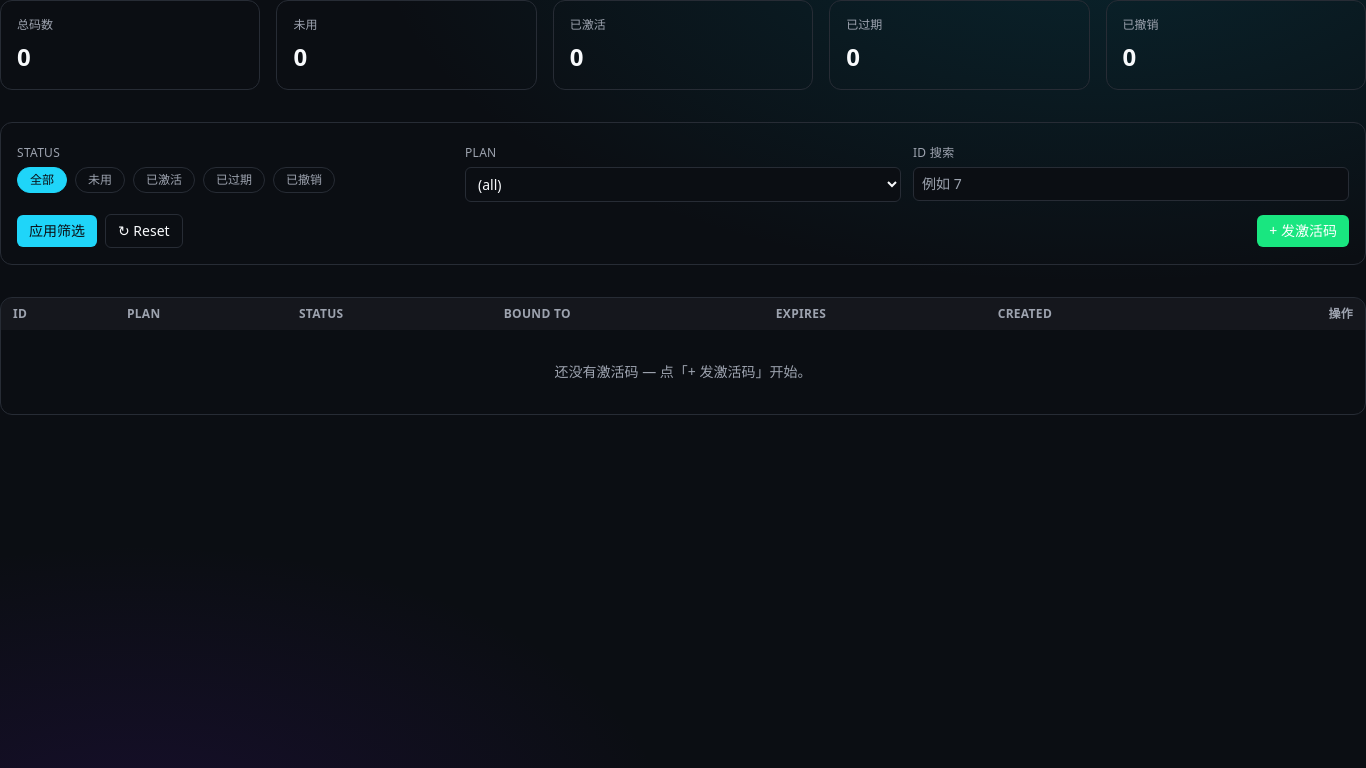
Scenario: ActivationCodesPanel — Phase 23 IM delivery › when the server returns im_send.sent=false the toast surfaces the failure
Step 1. Click the button with test id "btn-issue" → (1303, 231), box [1257,215,1349,247]
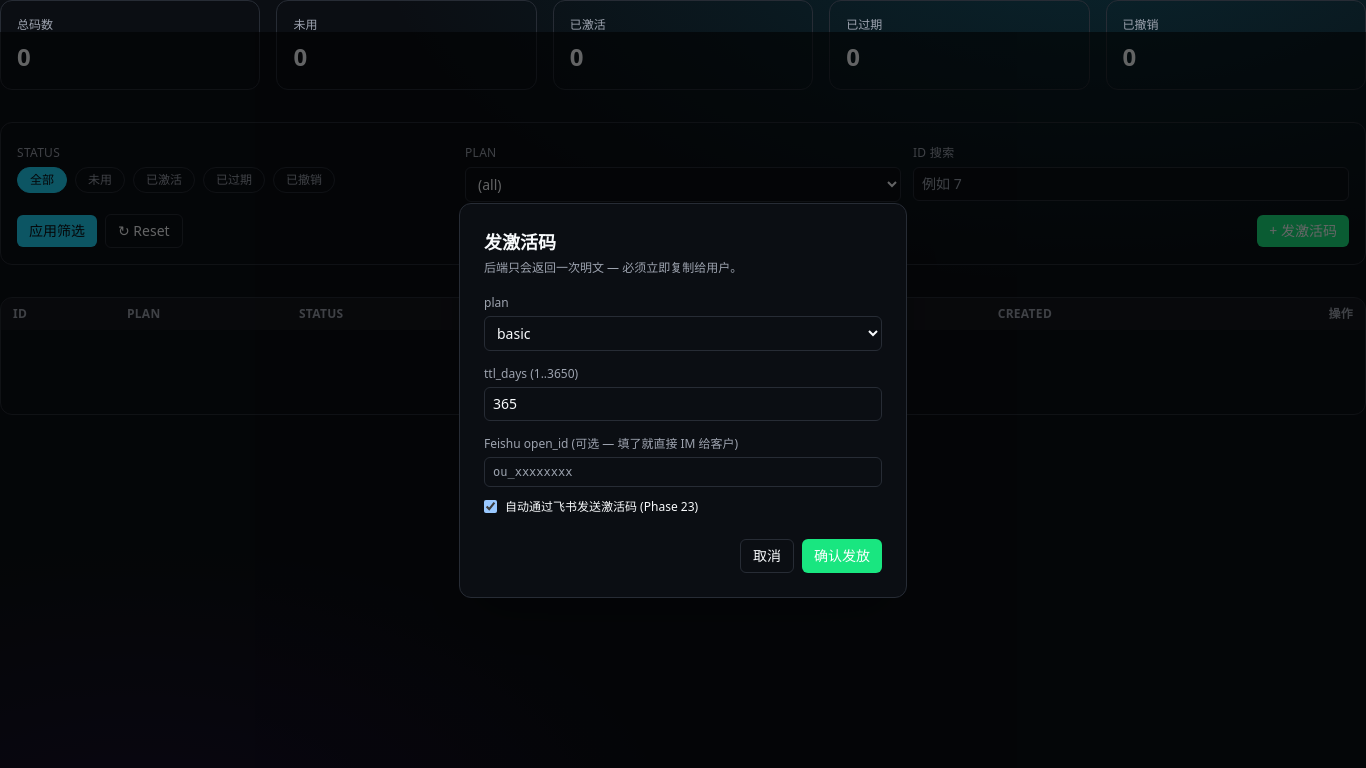
Step 2. Type "ou_x" into the field with test id "issue-feishu-open-id" → (683, 472), box [484,456,882,486]
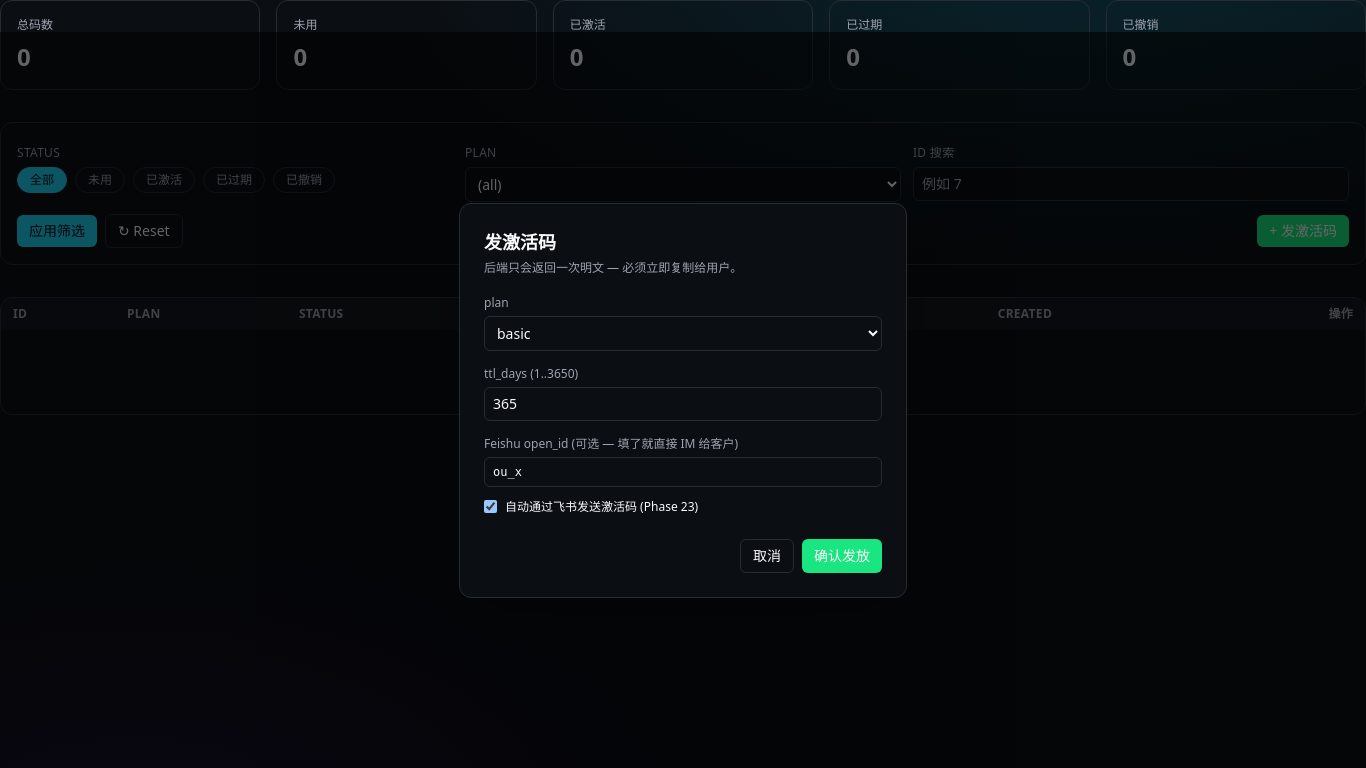
Step 3. Click the button with test id "issue-submit" → (842, 556), box [802,538,882,572]
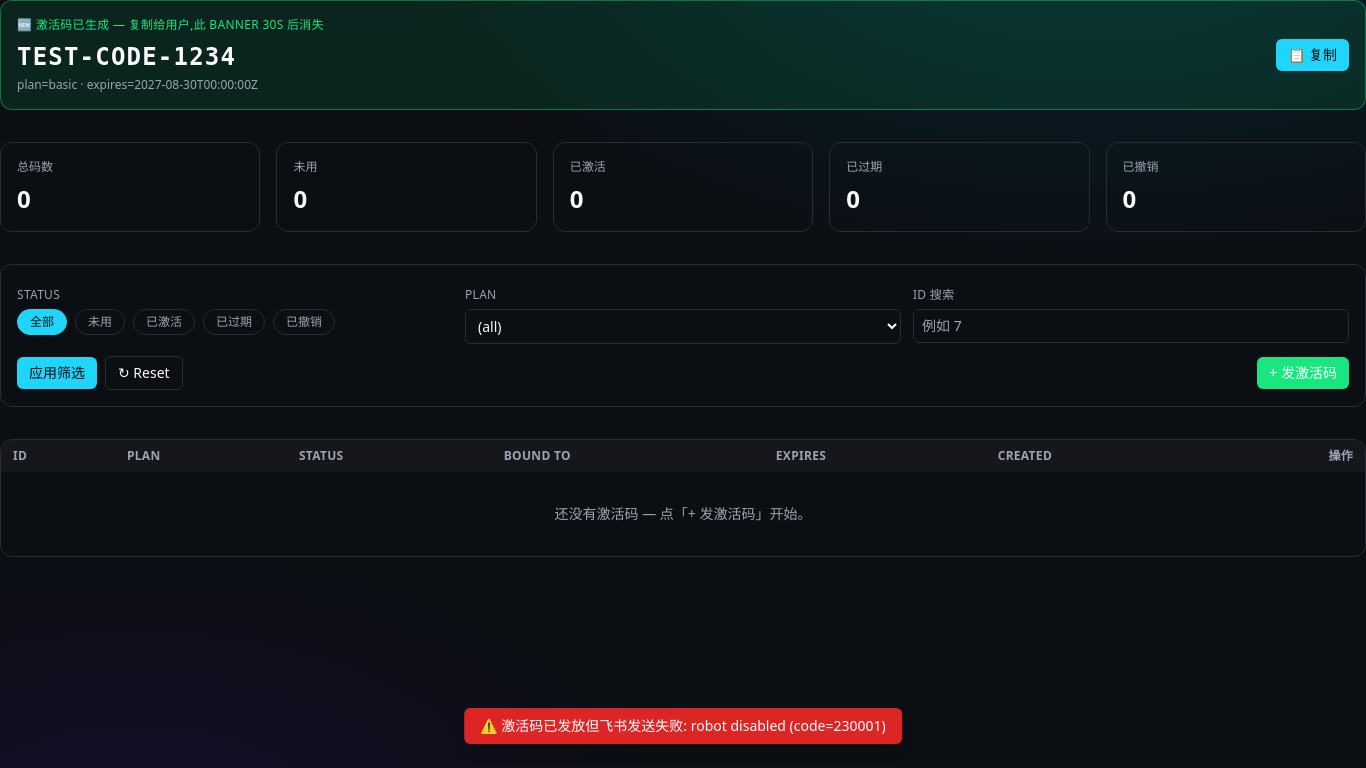
Expected: the message with test id "activation-toast" shows "飞书发送失败", [480,716,886,735]
Expected: the message with test id "activation-toast" shows "robot disabled (code=230001)", [480,716,886,735]
